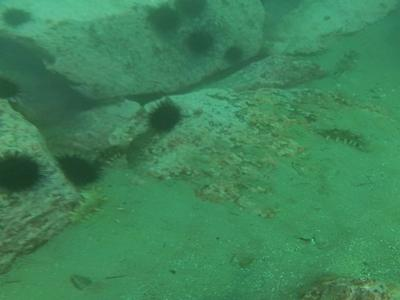holothurian: (66, 188, 108, 226), (320, 124, 374, 153), (333, 47, 359, 81), (95, 146, 123, 168)
urchin: (4, 152, 45, 194), (57, 156, 100, 189), (149, 100, 180, 132), (184, 28, 216, 55), (149, 9, 178, 32), (4, 8, 33, 29), (219, 46, 242, 65), (2, 76, 17, 102), (178, 3, 210, 15)
